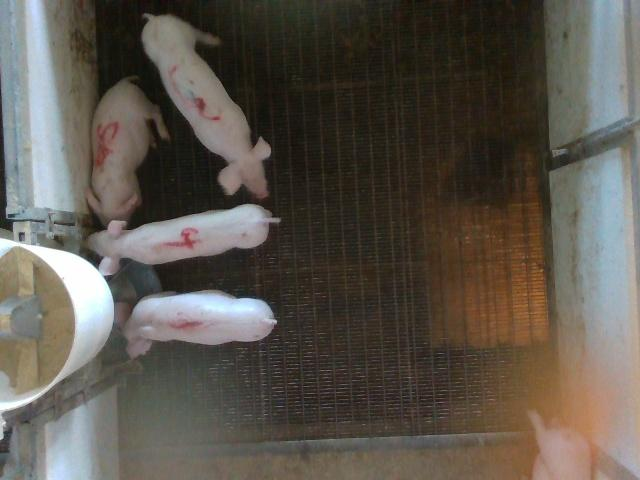pig-1: (115, 290, 275, 357)
pig-3: (141, 14, 271, 198)
pig-4: (88, 204, 280, 276)
pig-5: (86, 76, 170, 226)
